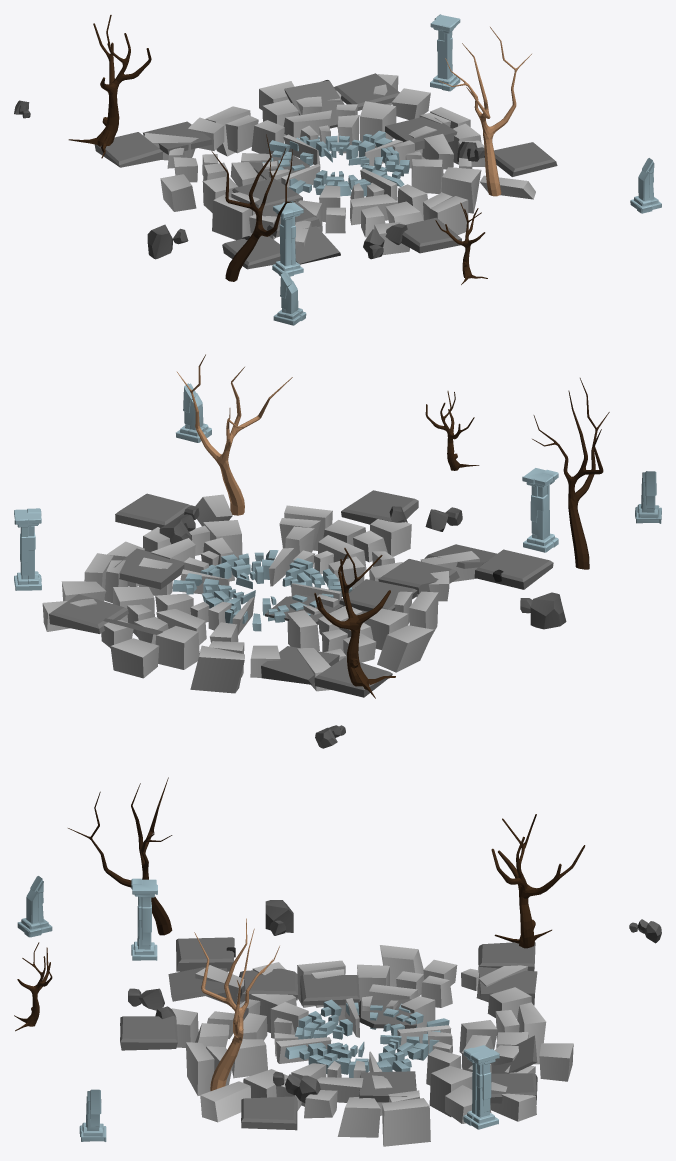
Rendered from Arena1.gltf.
3 views of the same model, one above another, from view 1: azimuth 30°, elevation 25°; view 2: azimuth 150°, elevation 25°; view 3: azimuth 270°, elevation 25° (orthographic). The views are drawn at different scales.
Parts seen in each view (by area): view 1: stone blocks2, blocks2, stone blocks1, rock1.004, tree2.001, tree1.001, tree1.002, OldColumn1.002, OldColumn1.001, OldColumn2.002, OldColumn2.001, tree2.002; view 2: stone blocks2, blocks2, stone blocks1, rock1.004, tree1.002, tree2.001, tree1.001, OldColumn1.001, OldColumn1.002, OldColumn2.001, OldColumn2.002, tree2.002; view 3: stone blocks2, blocks2, stone blocks1, rock1.004, tree2.001, tree1.001, OldColumn1.002, tree1.002, OldColumn1.001, OldColumn2.002, OldColumn2.001, tree2.002.
Part boxes in pixels (x1,y1,x2,y2): stone blocks2: (144, 74, 535, 255); blocks2: (94, 73, 557, 269); stone blocks1: (262, 130, 409, 196); rock1.004: (14, 100, 484, 259); tree2.001: (68, 15, 151, 158); tree1.001: (438, 27, 531, 196); tree1.002: (211, 134, 295, 281); OldColumn1.002: (430, 14, 460, 91); OldColumn1.001: (272, 201, 303, 276); OldColumn2.002: (273, 272, 306, 325); OldColumn2.001: (630, 158, 661, 213); tree2.002: (435, 202, 487, 284); stone blocks2: (42, 494, 479, 693); blocks2: (49, 490, 553, 697); stone blocks1: (172, 550, 352, 631); rock1.004: (159, 505, 566, 748); tree1.002: (532, 378, 609, 569); tree2.001: (314, 548, 395, 698); tree1.001: (176, 354, 292, 515); OldColumn1.001: (522, 468, 558, 552); OldColumn1.002: (14, 508, 41, 590); OldColumn2.001: (176, 383, 211, 442); OldColumn2.002: (635, 471, 661, 523); tree2.002: (425, 391, 479, 470); stone blocks2: (172, 945, 573, 1146); blocks2: (120, 937, 537, 1130); stone blocks1: (284, 999, 449, 1077); rock1.004: (128, 900, 661, 1102); tree2.001: (491, 814, 585, 948); tree1.001: (194, 918, 279, 1090); OldColumn1.002: (463, 1045, 499, 1129); tree1.002: (68, 777, 172, 935); OldColumn1.001: (131, 878, 157, 960); OldColumn2.002: (17, 876, 52, 937); OldColumn2.001: (79, 1089, 106, 1141); tree2.002: (14, 942, 52, 1031).
Size of what is drawn, in the model's own units: 19.46 by 7.86 by 23.22.
2 materials, 2 textured.
